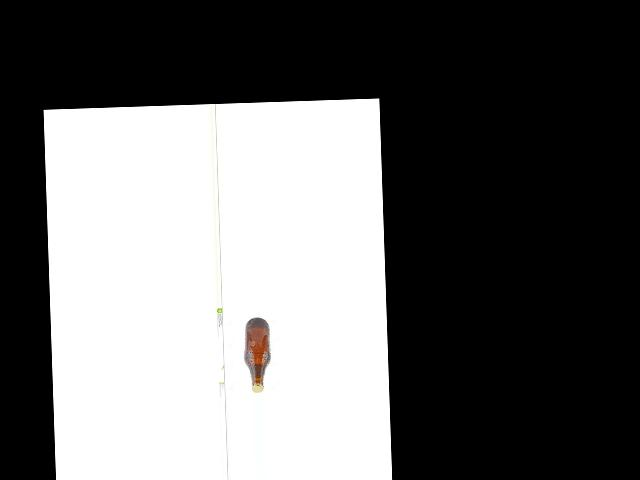beer: (242, 317, 271, 393)
